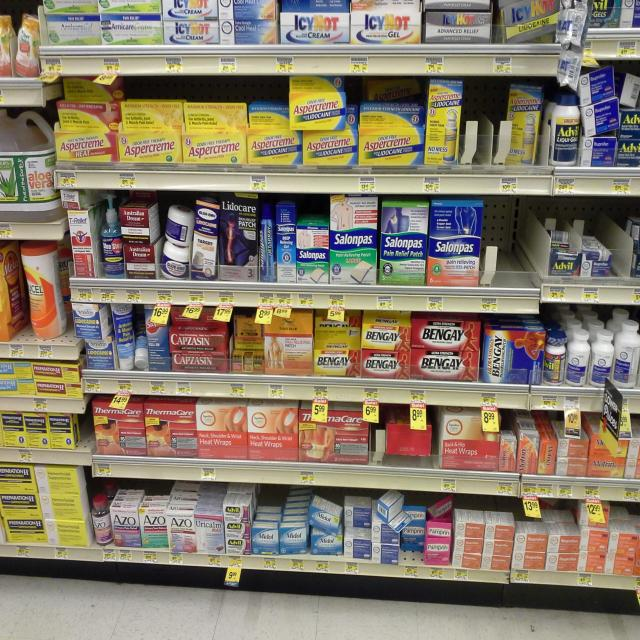unorganised: (18, 239, 67, 341), (482, 324, 545, 386), (576, 68, 622, 138), (287, 84, 352, 133), (506, 82, 542, 166), (159, 204, 194, 284), (110, 300, 147, 373), (495, 1, 560, 42), (193, 198, 222, 282), (66, 300, 107, 343), (376, 489, 413, 531), (59, 80, 123, 104), (120, 207, 155, 245), (307, 496, 342, 534), (546, 331, 566, 387), (234, 316, 264, 353), (401, 511, 426, 555), (537, 436, 559, 477), (58, 189, 89, 212), (345, 503, 368, 532)
